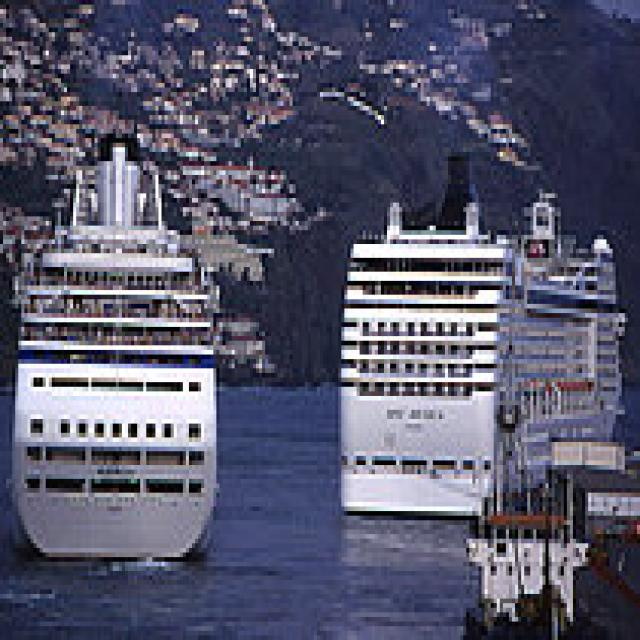Cruise: (332, 143, 625, 520), (6, 138, 220, 562)
